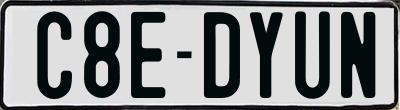8: (83, 8, 121, 101)
C: (35, 10, 71, 102)
D: (202, 12, 242, 100)
E: (129, 11, 163, 102)
N: (340, 12, 377, 102)
U: (294, 11, 334, 104)
Y: (247, 11, 286, 100)
